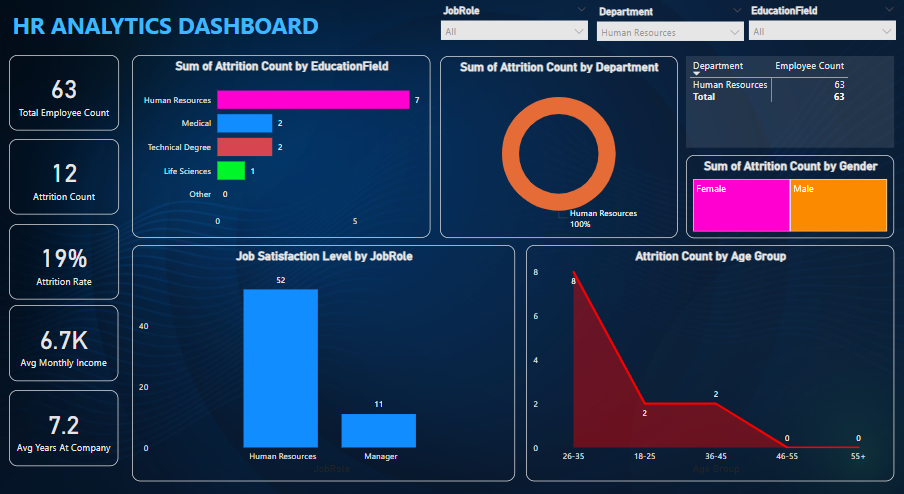

The dashboard page shown, as its layout file describes it:
{"tool":"powerbi","page":{"name":"Page 1","canvas":[1280,720],"ordinal":0},"visuals":[{"type":"donutChart","fields":{"Category":["HR_Analytics.Department"],"Y":["Sum(HR_Analytics.Attrition Count)"]},"box":[623.3,85,336.7,258.3],"z":0},{"type":"barChart","fields":{"Category":["HR_Analytics.EducationField"],"Y":["Sum(HR_Analytics.Attrition Count)"]},"box":[187.1,84.3,422.9,258.6],"z":1000},{"type":"treemap","fields":{"Group":["HR_Analytics.Gender"],"Values":["Sum(HR_Analytics.Attrition Count)"]},"box":[971.7,225,295,118.3],"z":2000},{"type":"card","fields":{"Values":["Sum(HR_Analytics.Attrition Count)"]},"box":[12.9,202.9,155.7,107.1],"z":3000},{"type":"card","fields":{"Values":["HR_Analytics.Attrition Rate"]},"box":[12.9,322.9,155.7,107.1],"z":4000},{"type":"card","fields":{"Values":["Sum(HR_Analytics.EmployeeCount)"]},"box":[12.9,84.3,155.7,107.1],"z":5000},{"type":"card","fields":{"Values":["Avg(HR_Analytics.MonthlyIncome)"]},"box":[13.3,438.3,155,108.3],"z":6000},{"type":"columnChart","fields":{"Category":["HR_Analytics.JobRole"],"Y":["CountNonNull(HR_Analytics.JobSatisfaction)"]},"box":[186.7,353.3,543.3,335],"z":7000},{"type":"card","fields":{"Values":["Avg(HR_Analytics.YearsAtCompany)"]},"box":[13.3,558.3,155,108.3],"z":8000},{"type":"slicer","fields":{"Values":["HR_Analytics.JobRole"]},"box":[615,6.7,228.3,66.7],"z":9000},{"type":"pivotTable","fields":{"Rows":["HR_Analytics.Department"],"Values":["Sum(HR_Analytics.EmployeeCount)"]},"box":[971.7,85,295,130],"z":10000},{"type":"areaChart","fields":{"Category":["HR_Analytics.AgeGroup"],"Y":["Sum(HR_Analytics.Attrition Count)"]},"box":[745,353.3,521.7,335],"z":11000},{"type":"slicer","fields":{"Values":["HR_Analytics.Department"]},"box":[836,8,228,66],"z":12000},{"type":"slicer","fields":{"Values":["HR_Analytics.EducationField"]},"box":[1052,7,228,66],"z":13000},{"type":"textbox","box":[12.9,14.3,461.4,52.9],"z":14000}]}

Visuals, with their boxes in screenshot pixels (x1, y1, x2, y2), scaled from the page's 1280x720 canvas onto the 904x494 screenshot:
donutChart - HR_Analytics.Department x Sum(HR_Analytics.Attrition Count): 440,58,678,236
barChart - HR_Analytics.EducationField x Sum(HR_Analytics.Attrition Count): 132,58,431,235
treemap - HR_Analytics.Gender x Sum(HR_Analytics.Attrition Count): 686,154,895,236
card - Sum(HR_Analytics.Attrition Count): 9,139,119,213
card - HR_Analytics.Attrition Rate: 9,222,119,295
card - Sum(HR_Analytics.EmployeeCount): 9,58,119,131
card - Avg(HR_Analytics.MonthlyIncome): 9,301,119,375
columnChart - HR_Analytics.JobRole x CountNonNull(HR_Analytics.JobSatisfaction): 132,242,516,472
card - Avg(HR_Analytics.YearsAtCompany): 9,383,119,457
slicer - HR_Analytics.JobRole: 434,5,596,50
pivotTable - HR_Analytics.Department x Sum(HR_Analytics.EmployeeCount): 686,58,895,148
areaChart - HR_Analytics.AgeGroup x Sum(HR_Analytics.Attrition Count): 526,242,895,472
slicer - HR_Analytics.Department: 590,5,751,51
slicer - HR_Analytics.EducationField: 743,5,903,50
textbox: 9,10,335,46
